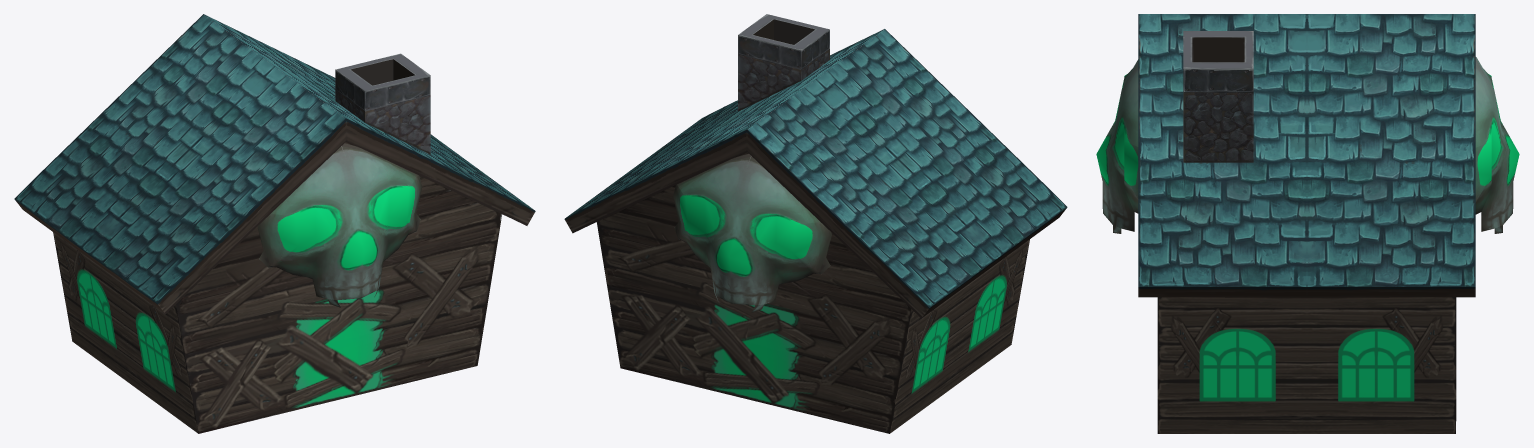
The model's file is model_build8.FBX.
The picture shows the model from 3 angles, left to right: view 1: azimuth 30°, elevation 25°; view 2: azimuth 150°, elevation 25°; view 3: azimuth 270°, elevation 25°; orthographic projection. The views are drawn at different scales.
Parts seen in each view (by area): view 1: model_build2; view 2: model_build2; view 3: model_build2.
Boxes of the visible parts, x1,y1,x2,y2 form: model_build2: (14, 14, 535, 433); model_build2: (564, 14, 1067, 433); model_build2: (1096, 14, 1519, 433).
Bounding box in the file's own units: 273 × 201 × 224.
